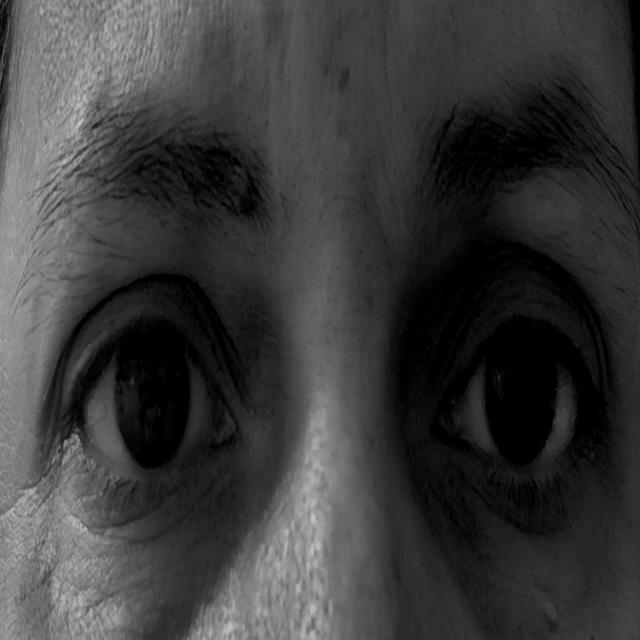real: (22, 98, 637, 612)
